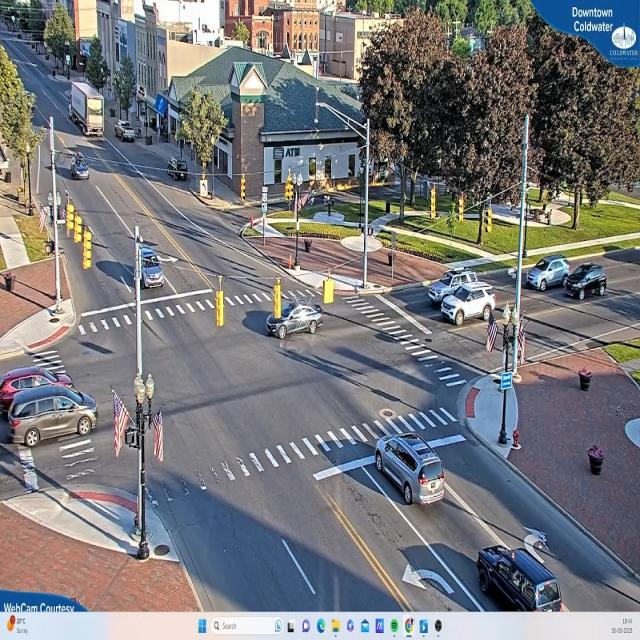car: (3, 386, 96, 449), (476, 547, 563, 611), (374, 432, 445, 507), (0, 366, 72, 417), (437, 286, 497, 326), (266, 302, 321, 338), (562, 264, 609, 300), (525, 256, 572, 290), (141, 245, 164, 289), (117, 120, 139, 143), (74, 150, 90, 179)
